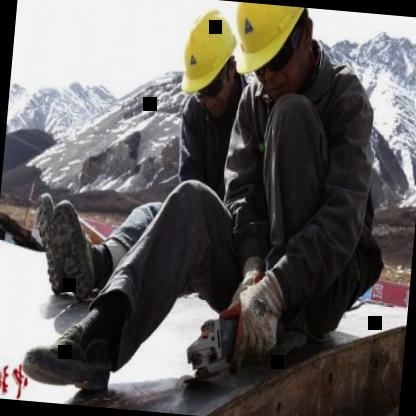helmet: (219, 1, 327, 112), (166, 0, 253, 122)
